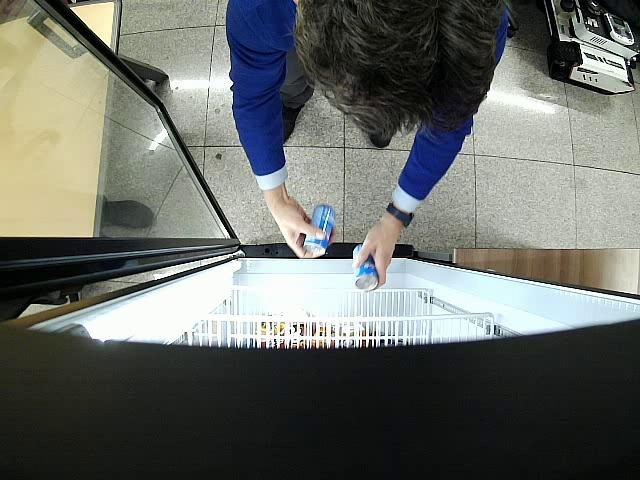00_hand: (264, 191, 336, 258), (351, 212, 402, 292)
15_letsbe: (304, 205, 336, 257), (353, 245, 377, 291)
